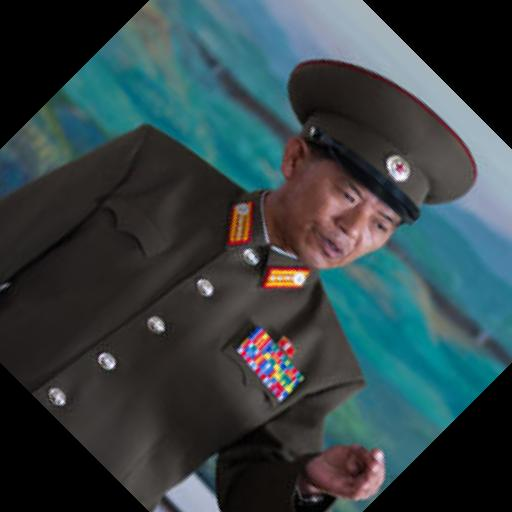north army: (8, 17, 503, 512)
